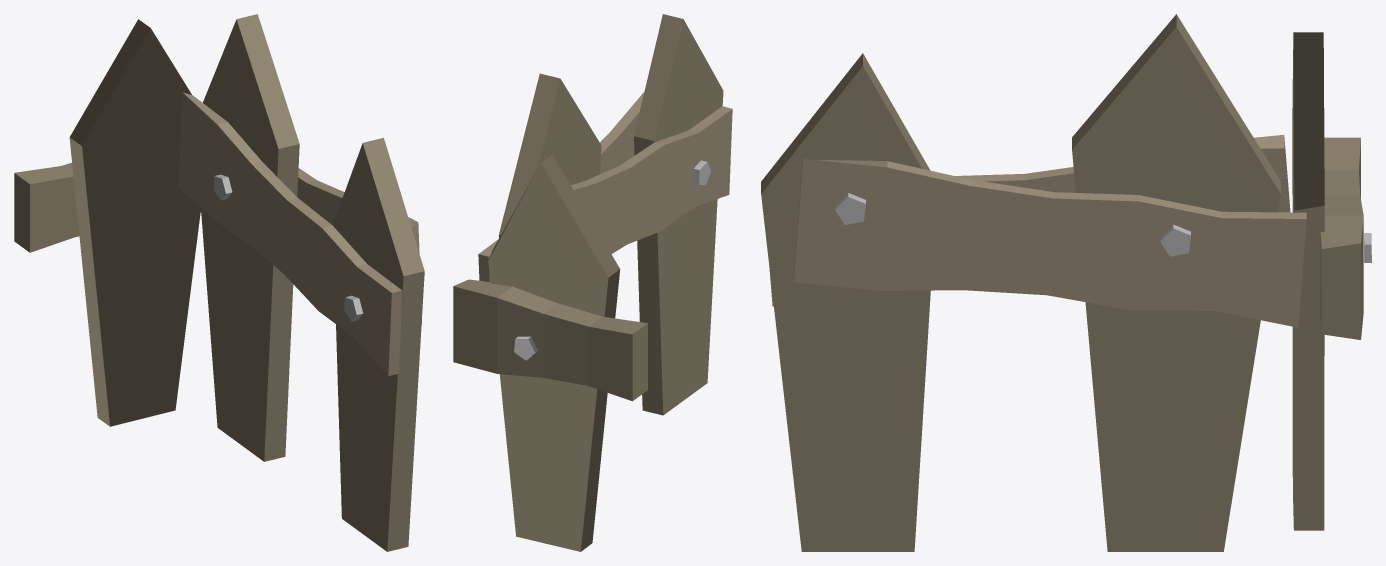
The model's file is Fence_Corner.fbx.
3 renders of one model, left to right at view 1: azimuth 30°, elevation 25°; view 2: azimuth 150°, elevation 25°; view 3: azimuth 270°, elevation 25°, orthographic. The views are drawn at different scales.
Parts seen in each view (by area): view 1: Fence_corner; view 2: Fence_corner; view 3: Fence_corner.
Part boxes in pixels (box(x1,y1,x2,y2)): Fence_corner: box(14, 14, 424, 551); Fence_corner: box(453, 14, 732, 551); Fence_corner: box(761, 14, 1371, 551).
Size of the model in its own units: 1.76 by 3.81 by 4.02.
